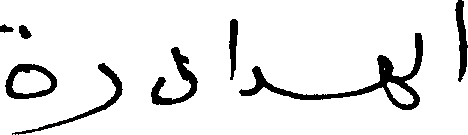ا: (453, 0, 466, 83), (227, 17, 237, 80)
ة: (0, 22, 56, 100)
د: (150, 44, 197, 105), (238, 63, 265, 95)
ر: (55, 60, 121, 126)
ل: (414, 31, 423, 109)
ه: (376, 52, 418, 110)
